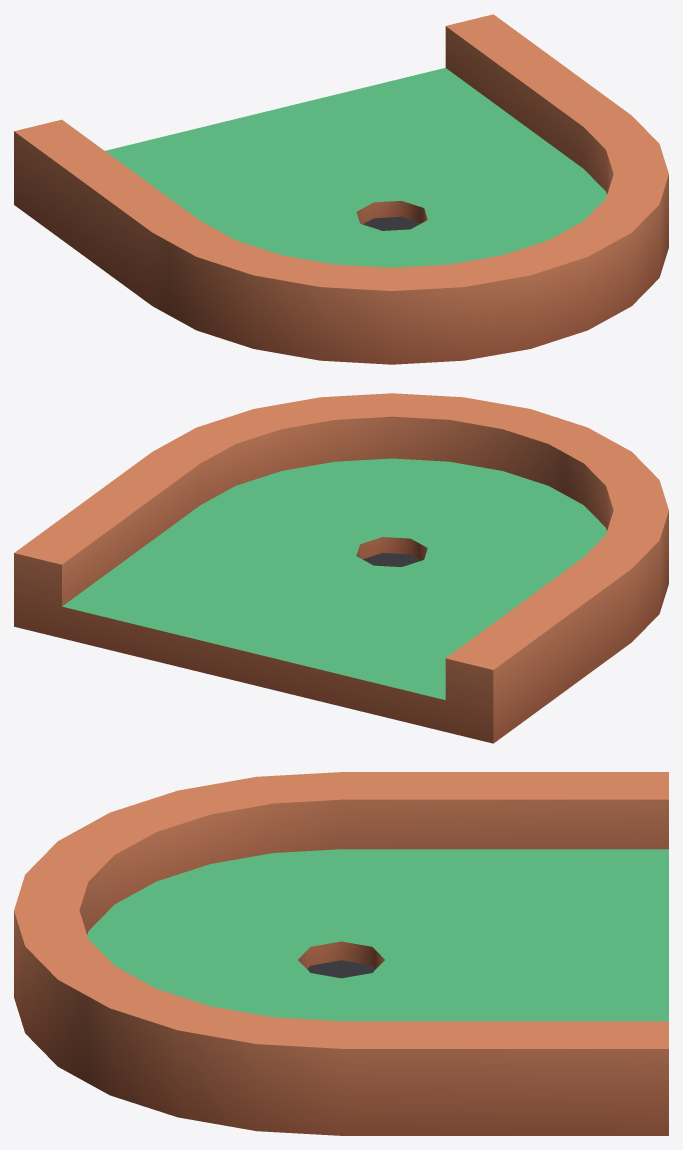
Rendered from hole-round.glb.
3 views of the same model, one above another, from view 1: azimuth 30°, elevation 25°; view 2: azimuth 150°, elevation 25°; view 3: azimuth 270°, elevation 25° (orthographic). The views are drawn at different scales.
Visible parts, largest first — view 1: hole-round; view 2: hole-round; view 3: hole-round.
Part boxes in pixels (x1,y1,x2,y2): hole-round: [14, 14, 668, 364]; hole-round: [14, 393, 668, 743]; hole-round: [14, 772, 668, 1135].
Size of the model in its own units: 0.9999 by 0.1467 by 0.9999.
Materials: 1 (1 with a texture image).
